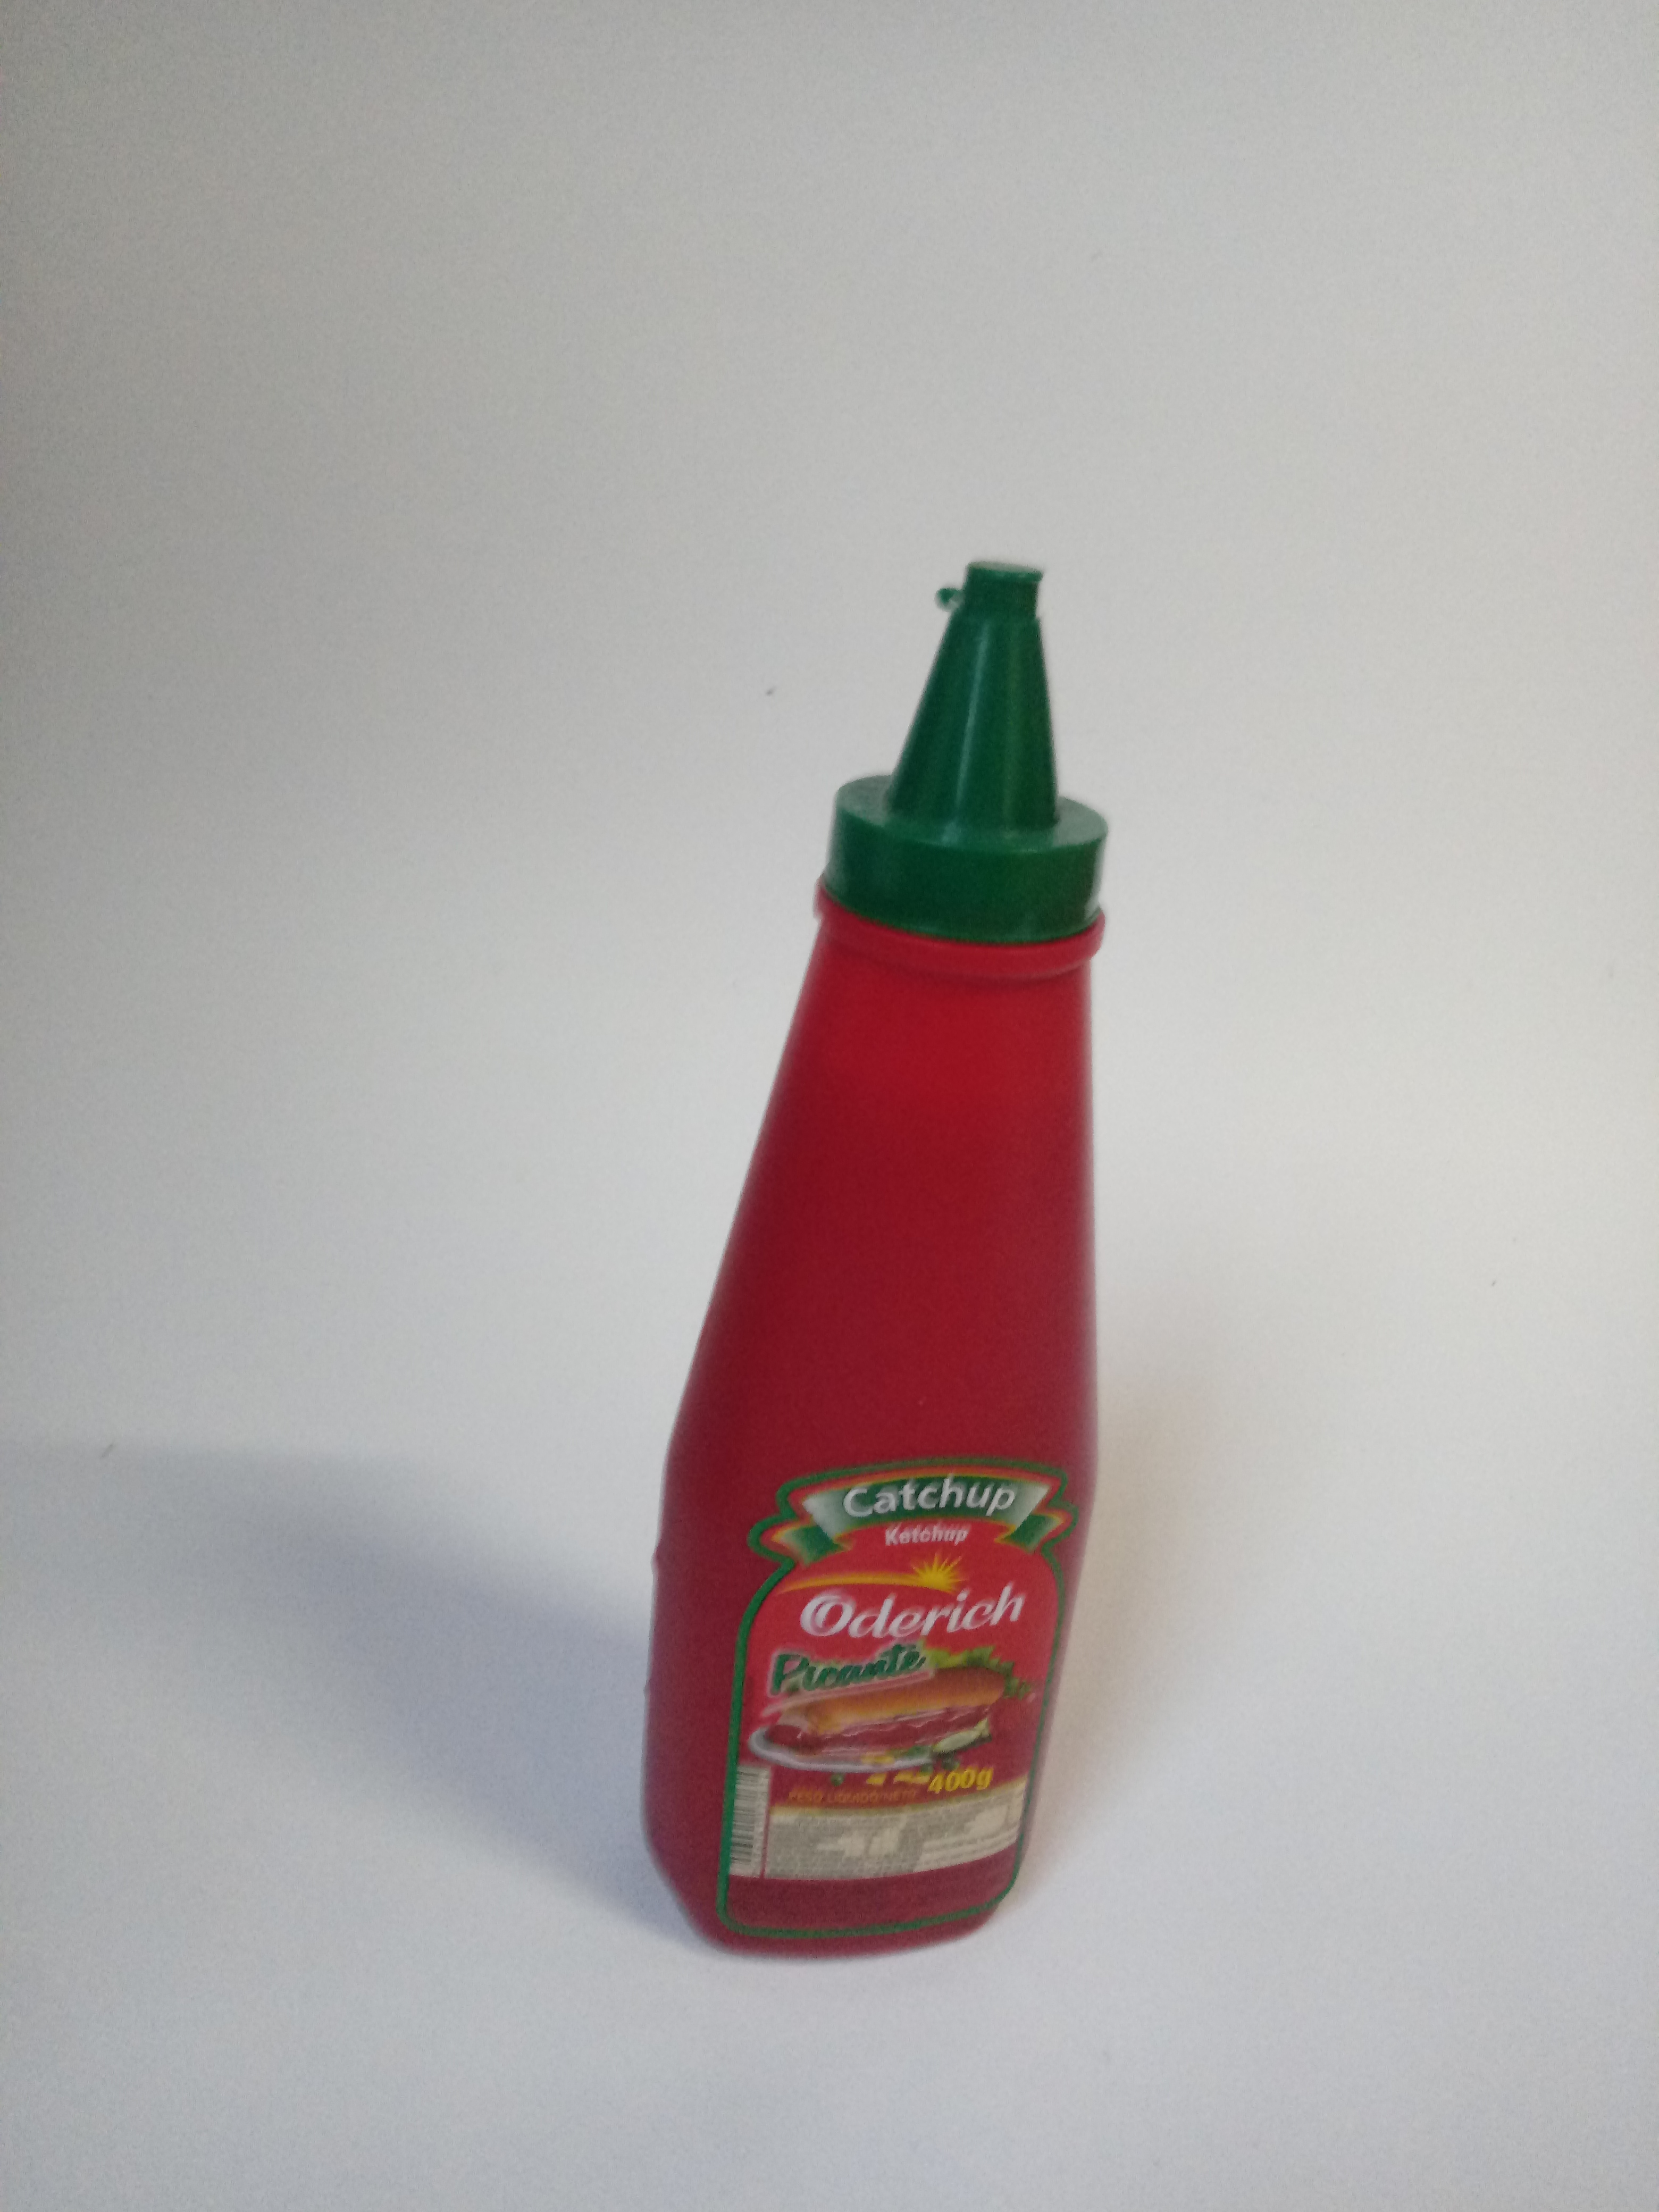catchup-oderich: (605, 451, 1122, 1980)
